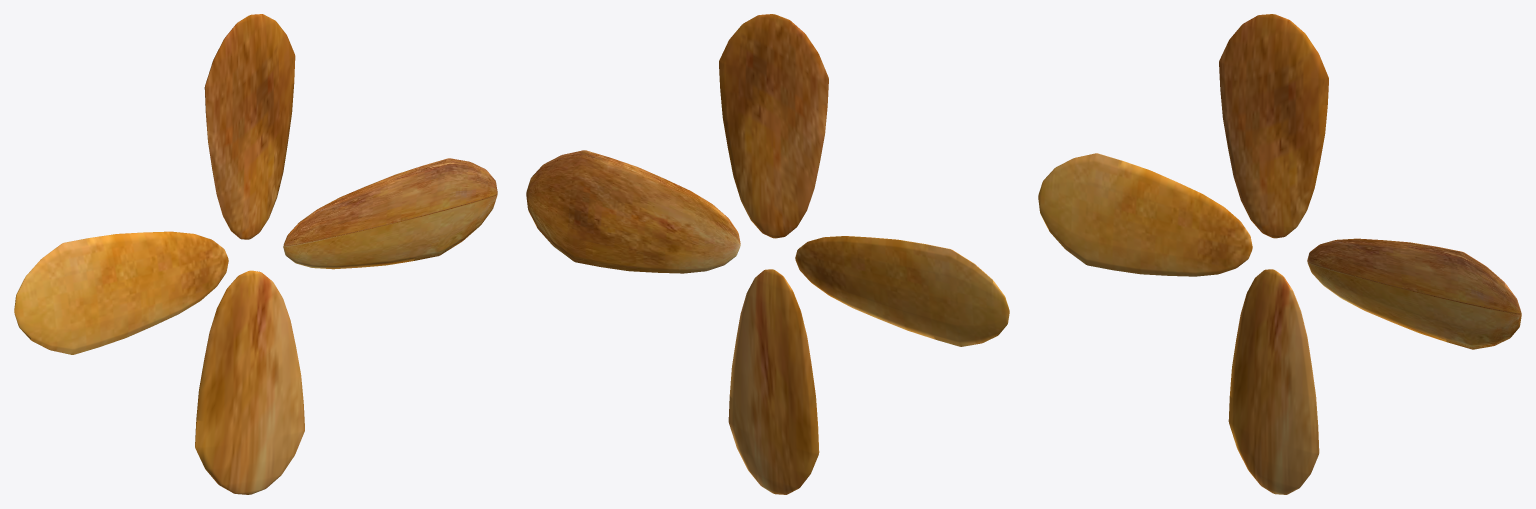
File: 扇風機の羽.fbx
3 renders of one model, left to right at view 1: azimuth 30°, elevation 25°; view 2: azimuth 150°, elevation 25°; view 3: azimuth 330°, elevation 25°, orthographic.
Parts seen in each view (by area): view 1: 羽; view 2: 羽; view 3: 羽.
Part boxes in pixels (<box>): 羽: <box>14,14,497,494</box>; 羽: <box>526,14,1009,494</box>; 羽: <box>1038,14,1521,494</box>.
Size of the model in its own units: 835 by 792 by 36.01.
1 material, 1 textured.
